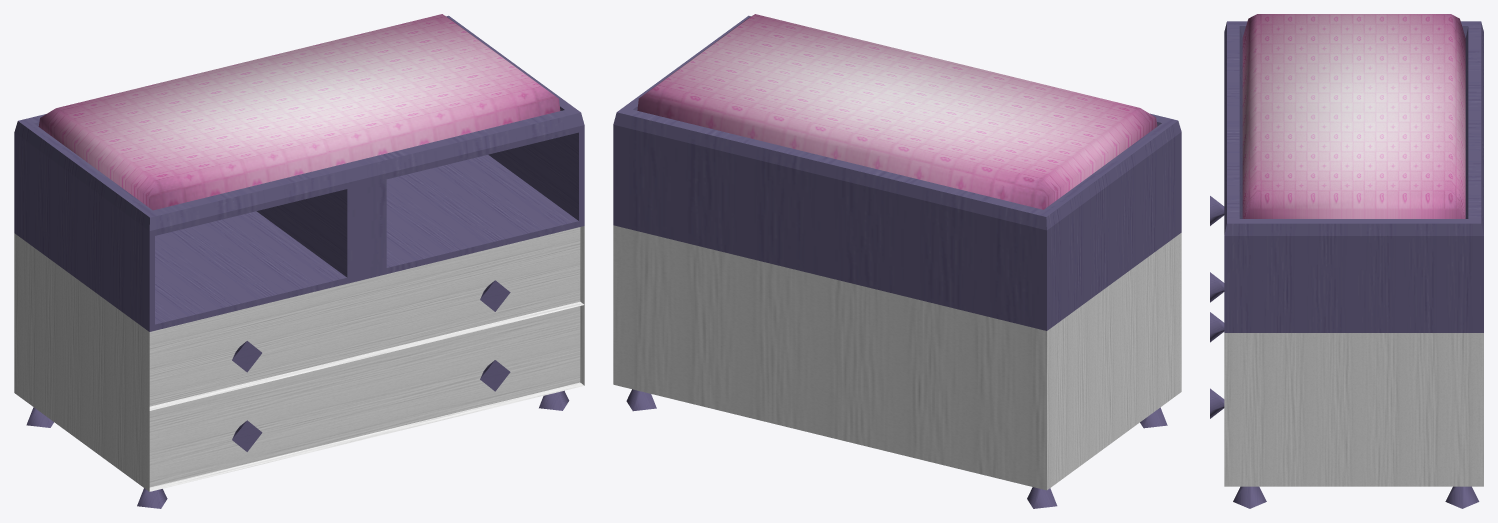
File: Changing_Table_A.FBX
3 renders of one model, left to right at view 1: azimuth 30°, elevation 25°; view 2: azimuth 150°, elevation 25°; view 3: azimuth 270°, elevation 25°, orthographic. The views are drawn at different scales.
Visible parts, largest first — view 1: Changing table; view 2: Changing table; view 3: Changing table.
Part boxes in pixels (x1,y1,x2,y2): Changing table: [14, 14, 584, 508]; Changing table: [613, 14, 1181, 508]; Changing table: [1210, 14, 1483, 508].
Size of the model in its own units: 163 by 113 by 92.29.
